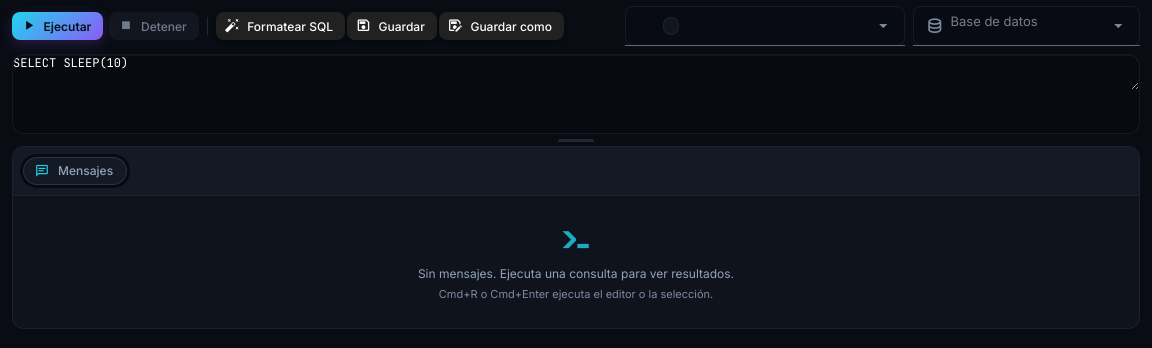
QueryView › ignores late results after Detener
The width and height of the screenshot is (1152, 348).
Step 1. Click the button with test id "run" → (58, 26), box [12, 12, 103, 40]
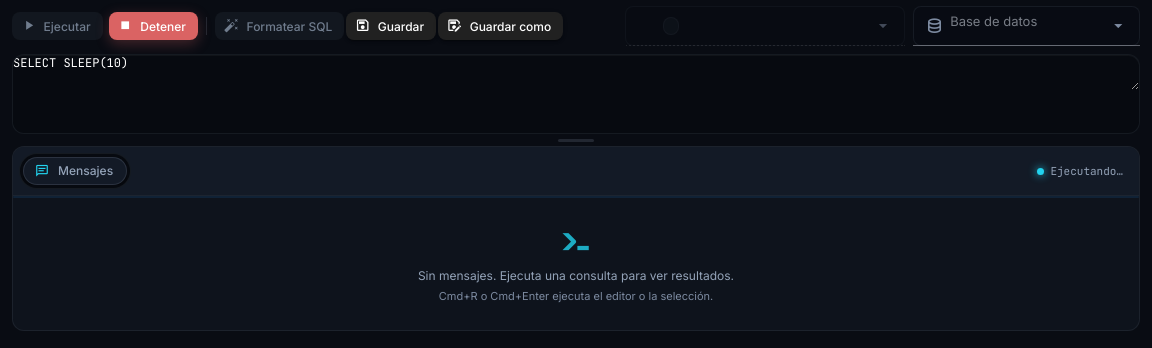
Step 2. Click the button with test id "stop" → (153, 26), box [109, 12, 198, 40]
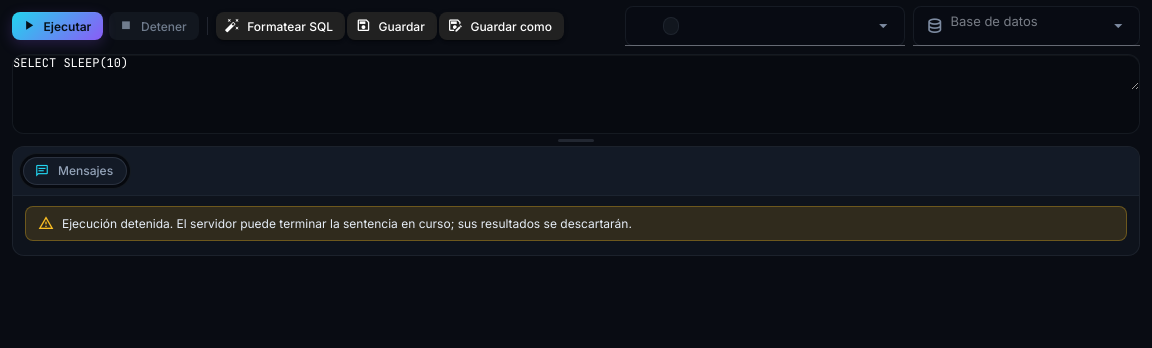
Expected: the text "Ejecución detenida" is shown, [62, 216, 632, 231]
